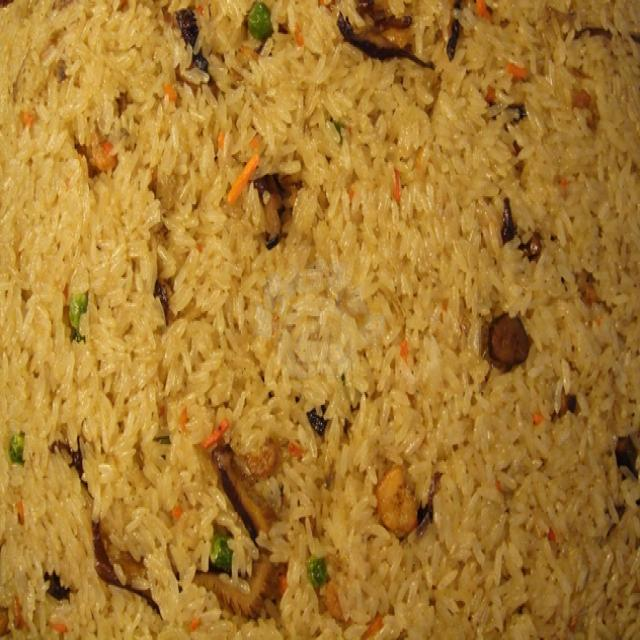米饭主食: (25, 21, 610, 625)
